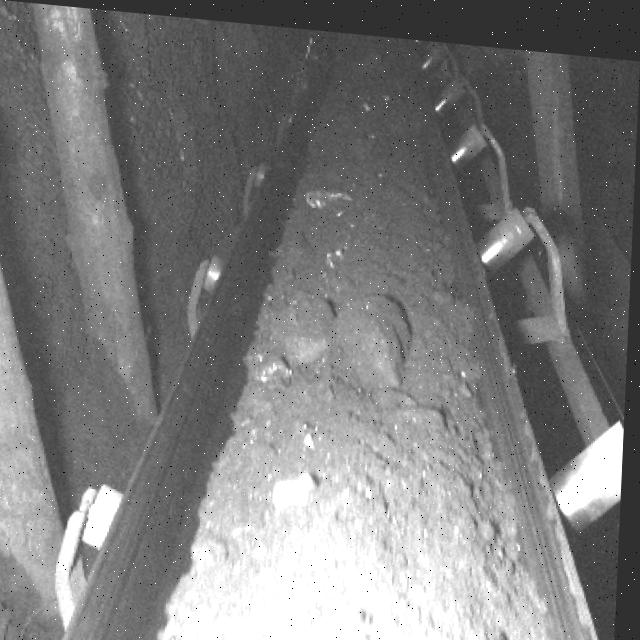large_sized_coal: (336, 282, 415, 386), (286, 280, 337, 360), (310, 175, 358, 205)
